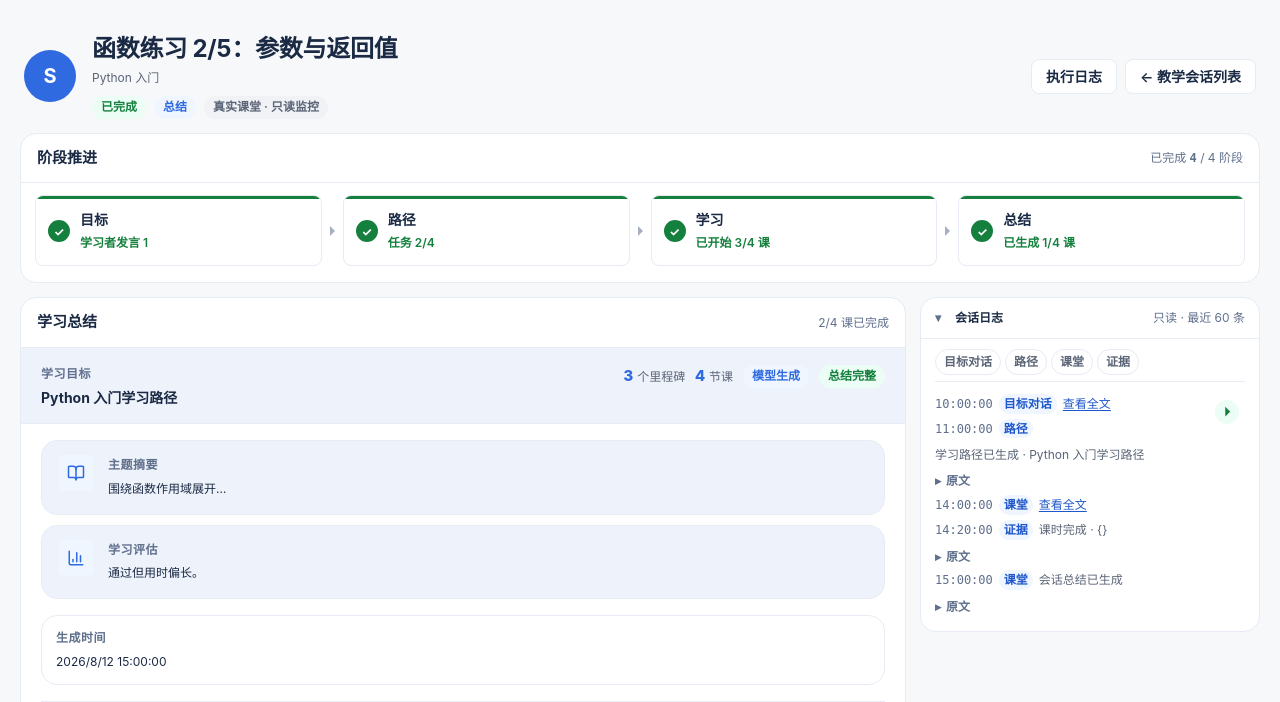
Scenario: SessionCockpit 双模式 › Path 页签 = 路径内容本体（2026-10-12 拍板）：内嵌 PathJourneyPanel，不再有「打开路径详情页」出口
What coordinates should you click on to do the following:
click the tab with class "cp-stp" showing "✓ 路径 任务 2/4"
I would click on:
 (411, 243)
Its box is [343,195,630,266].
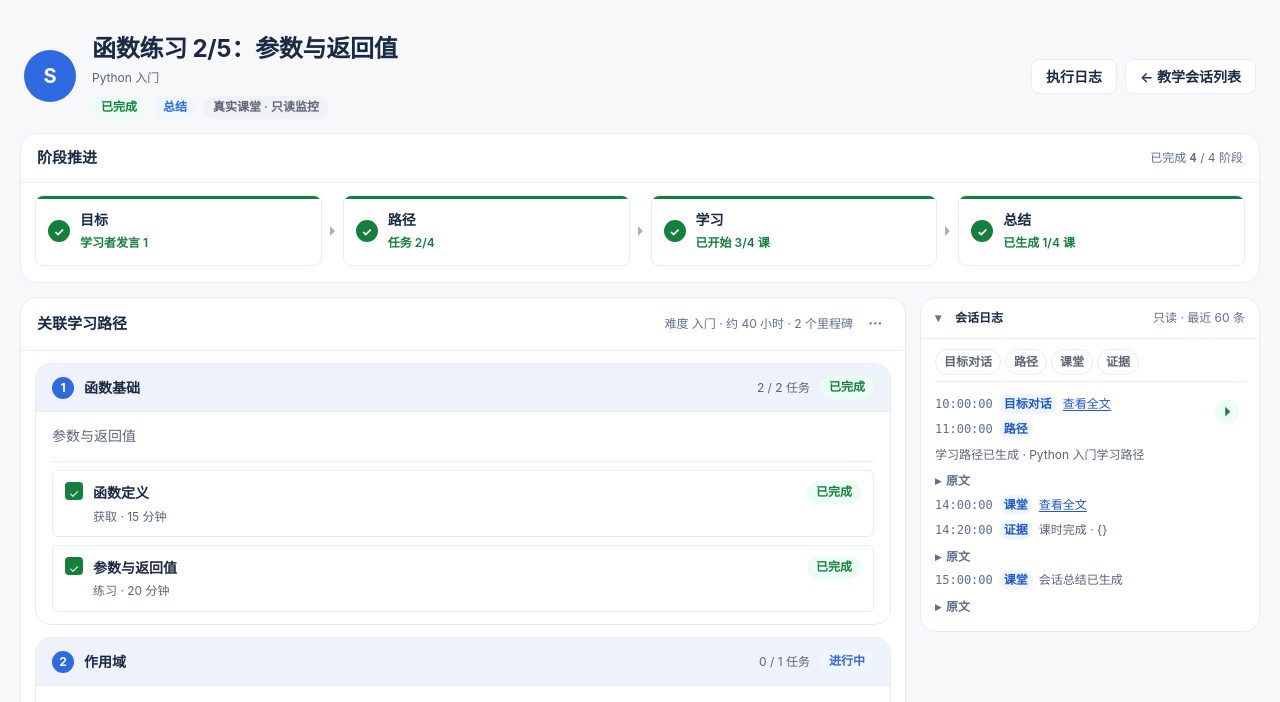
expect the heading with class "mk-card__title" reads "关联学习路径": met, box [37,314,127,333]
expect the panel with id "cp-tabpanel-path" shows "参数与返回值": met, box [52,427,136,444]
expect the panel with id "cp-tabpanel-path" shows "2 / 2 任务": met, box [757,380,810,395]
What coordinates should you click on to do the following:
click the button with class "mk-menu__btn"
I would click on:
 (875, 324)
Its box is [861,310,889,338].
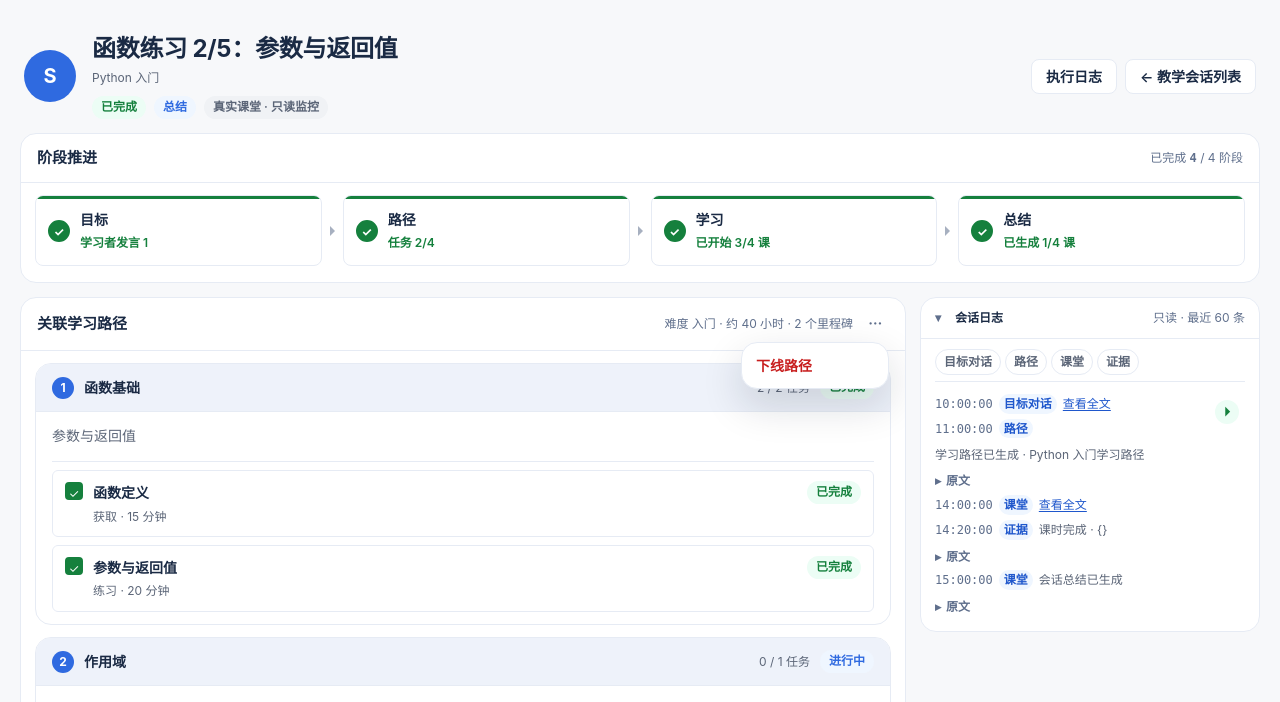
expect the elements with class "mk-menu__item" read "下线路径", in this order: met, box [746,347,884,384]
